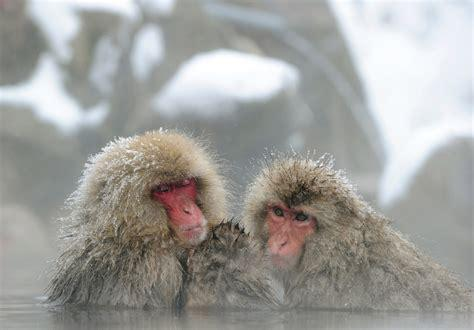monkey: (246, 156, 472, 313), (51, 130, 224, 305)
